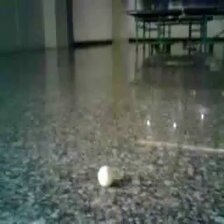w: (97, 165, 114, 186)
